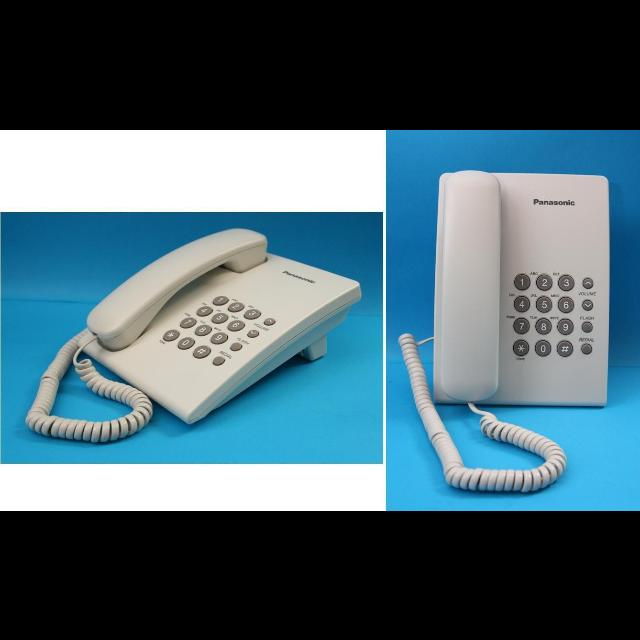Telephone-Set: (404, 153, 640, 484)
